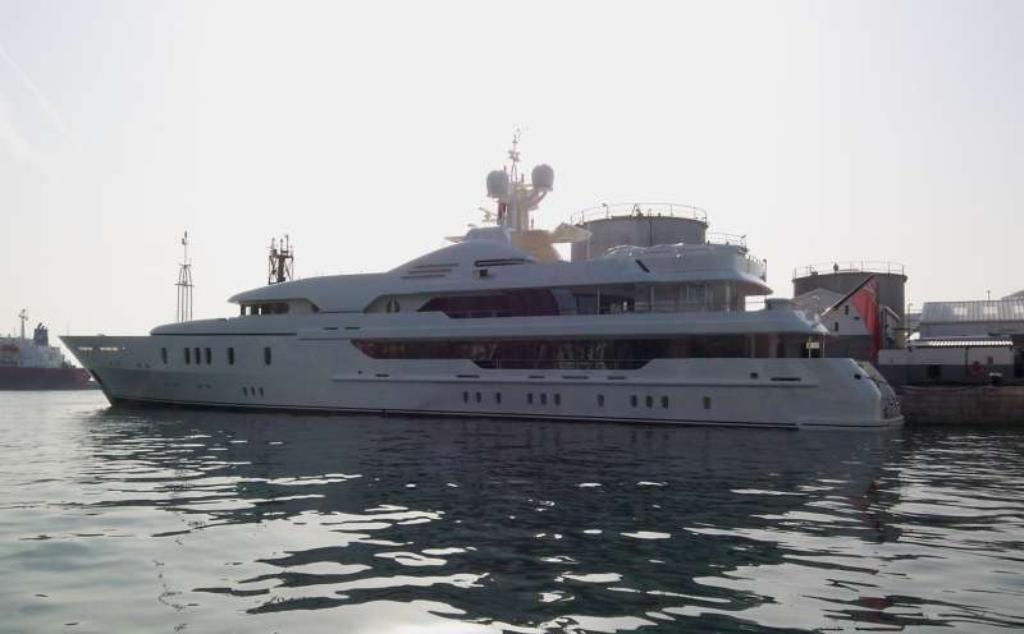PassengerShip: (54, 143, 918, 417)
